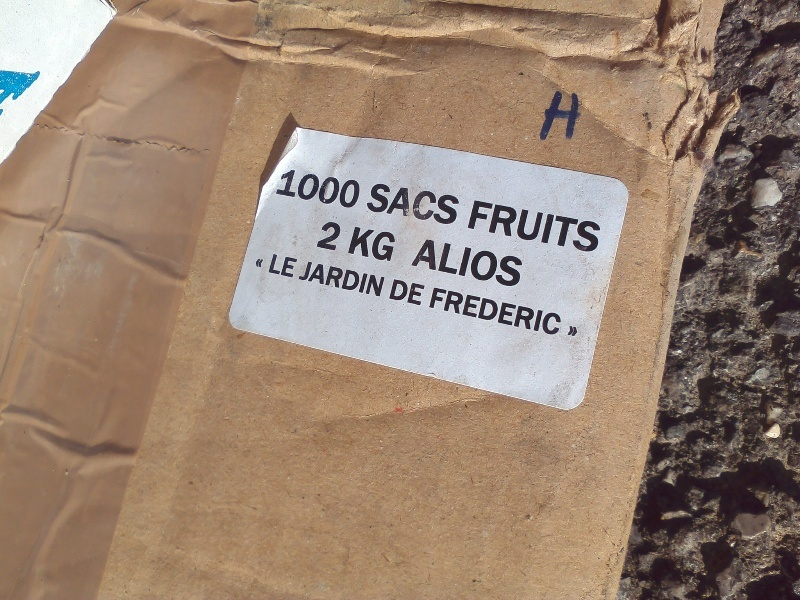text: (545, 84, 560, 145), (561, 84, 576, 145), (481, 199, 496, 257), (497, 199, 512, 257), (513, 199, 528, 257), (529, 199, 544, 257), (545, 199, 560, 257), (561, 199, 576, 257), (577, 199, 592, 257), (433, 285, 448, 338), (449, 285, 464, 338), (465, 285, 480, 338), (481, 285, 496, 338), (497, 285, 512, 338), (513, 285, 528, 338), (529, 285, 544, 338), (545, 285, 560, 338), (433, 237, 448, 289), (449, 237, 464, 289), (465, 237, 480, 289), (481, 237, 496, 289), (497, 237, 512, 289), (513, 237, 527, 289), (593, 199, 605, 257), (385, 182, 400, 226), (401, 182, 416, 226), (417, 182, 432, 226), (433, 182, 448, 226), (449, 182, 464, 226), (289, 167, 304, 210), (305, 167, 320, 210), (321, 167, 336, 210), (337, 167, 352, 210), (577, 84, 587, 145), (369, 224, 384, 264), (385, 224, 400, 264), (305, 260, 320, 299), (321, 260, 336, 299), (337, 260, 352, 299), (353, 260, 368, 299), (369, 260, 384, 299), (354, 224, 368, 264), (373, 182, 384, 226), (353, 167, 364, 210), (401, 277, 416, 307), (273, 252, 288, 280), (473, 199, 480, 257), (425, 237, 432, 289), (326, 218, 336, 254), (561, 285, 567, 338), (417, 277, 427, 307), (337, 218, 345, 254), (289, 252, 299, 280), (394, 277, 400, 307), (284, 167, 288, 210), (385, 260, 389, 299), (568, 324, 576, 339), (257, 257, 265, 270), (577, 324, 578, 339)
